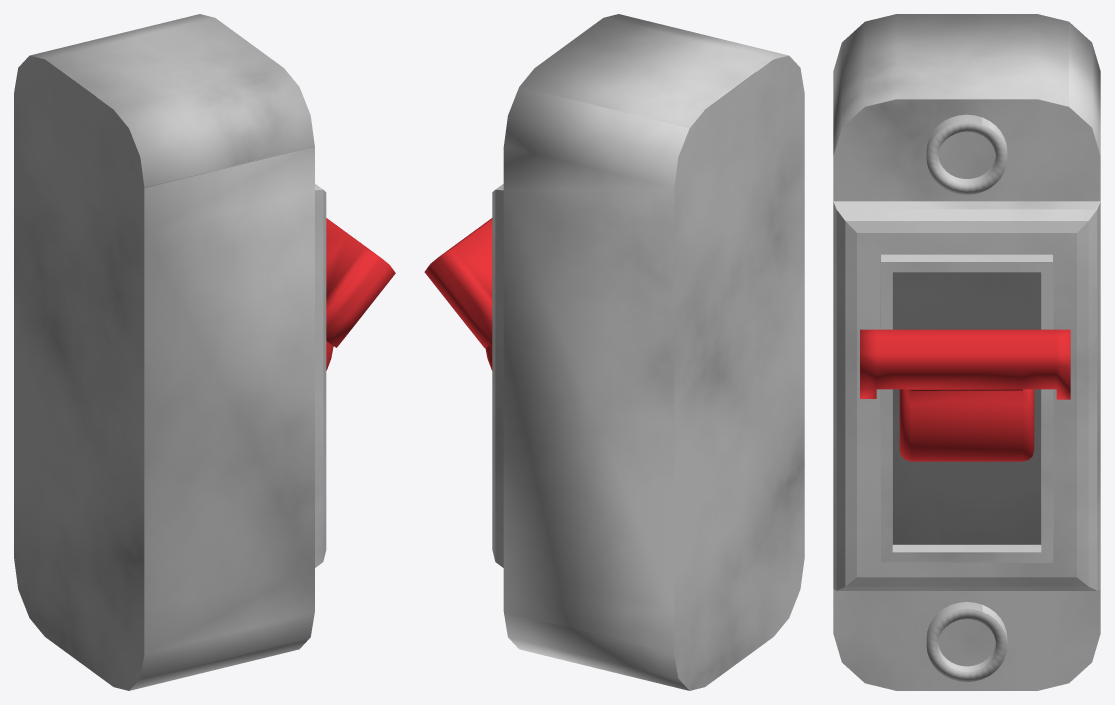
File: BreakerSwitch.fbx
The picture shows the model from 3 angles, left to right: view 1: azimuth 30°, elevation 25°; view 2: azimuth 150°, elevation 25°; view 3: azimuth 270°, elevation 25°; orthographic projection. The views are drawn at different scales.
Visible parts, largest first — view 1: SwitchBack, MainSwitch; view 2: SwitchBack, MainSwitch; view 3: SwitchBack, MainSwitch.
Part boxes in pixels (<box>): SwitchBack: <box>14,14,326,690</box>; MainSwitch: <box>326,218,395,370</box>; SwitchBack: <box>492,14,804,690</box>; MainSwitch: <box>424,218,492,370</box>; SwitchBack: <box>833,14,1100,690</box>; MainSwitch: <box>860,329,1070,461</box>.
Bounding box in the file's own units: 19.42 × 40.51 × 16.58.
